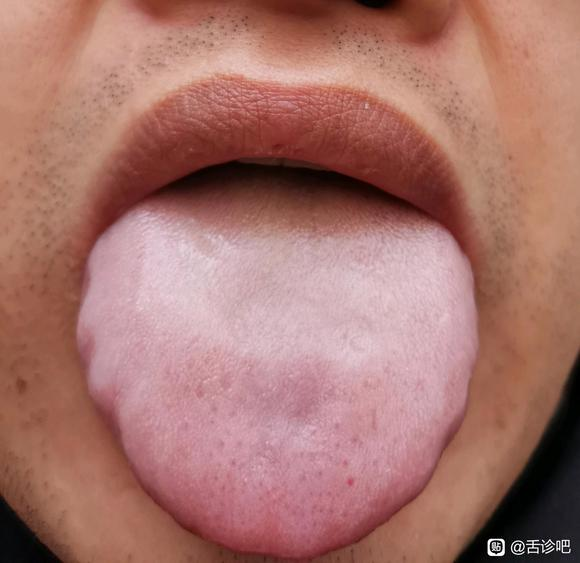baitaishe: (77, 174, 477, 559)
chihenshe: (83, 374, 126, 454)
hongdianshe: (345, 473, 356, 488)
pangdashe: (77, 174, 477, 559)
